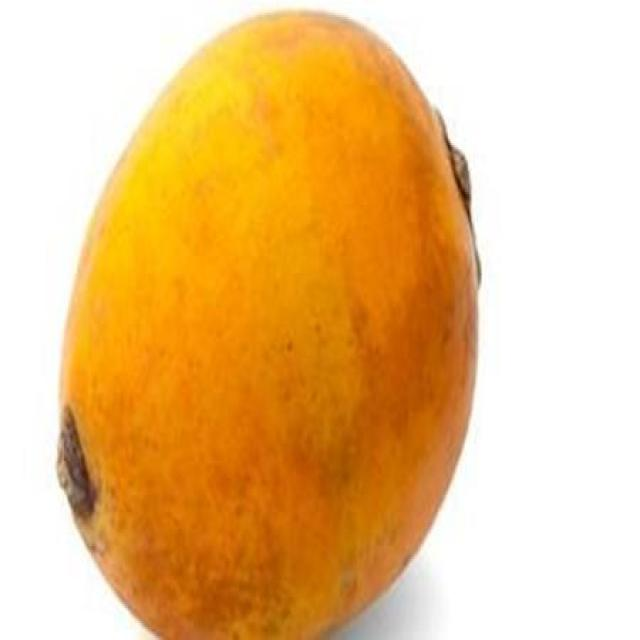good: (54, 13, 482, 638)
